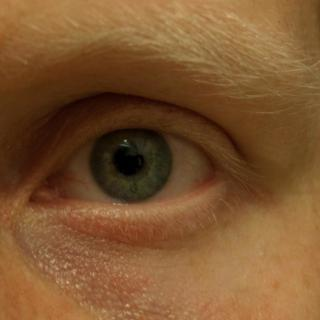pupil: (112, 145, 144, 176)
